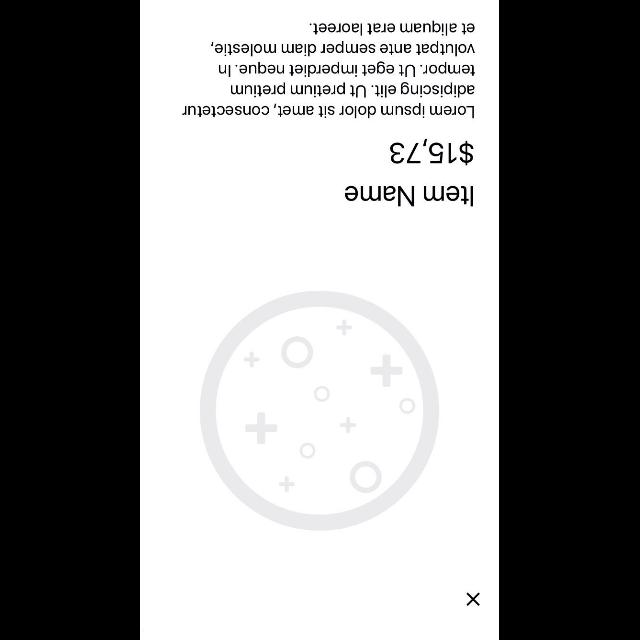icon: (467, 592, 481, 606)
image: (200, 290, 438, 530)
text: (182, 20, 476, 118), (345, 186, 475, 208), (390, 140, 474, 166)
